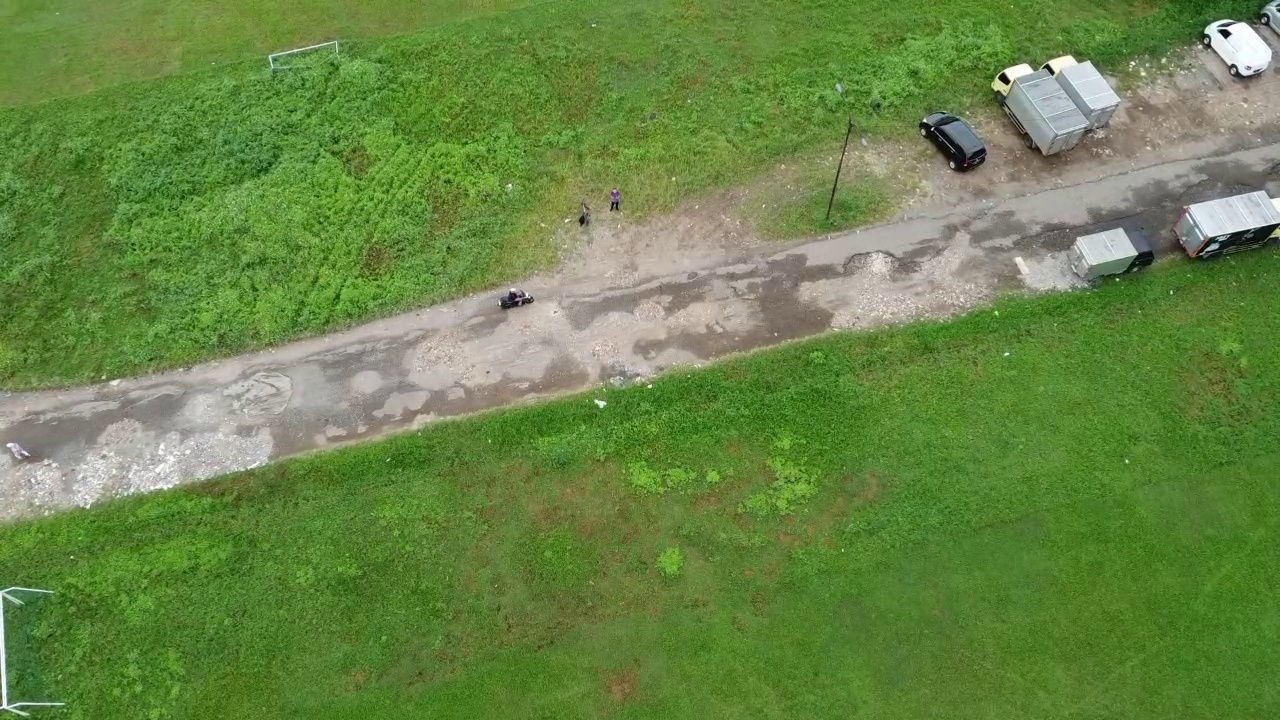mobil: (907, 101, 992, 183), (1192, 5, 1275, 86)
